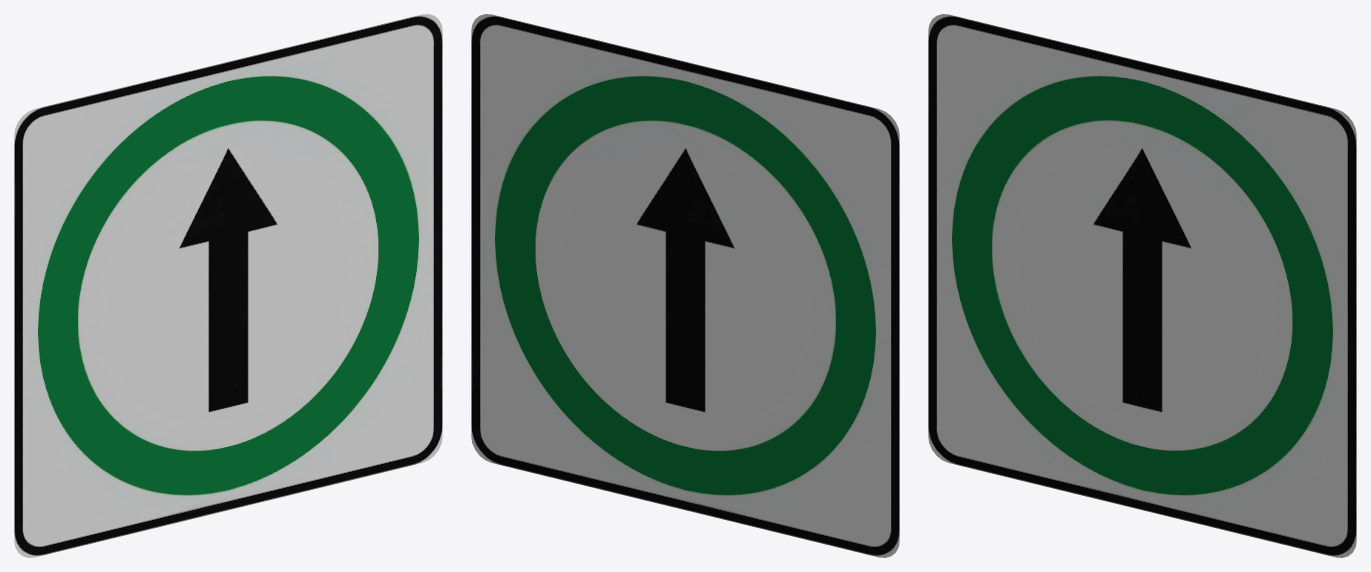
The model's file is verde_up.gltf.
3 renders of one model, left to right at view 1: azimuth 30°, elevation 25°; view 2: azimuth 150°, elevation 25°; view 3: azimuth 330°, elevation 25°, orthographic.
Parts seen in each view (by area): view 1: verde_up; view 2: verde_up; view 3: verde_up.
Part boxes in pixels (x1,y1,x2,y2): verde_up: (14, 14, 442, 557); verde_up: (471, 14, 899, 557); verde_up: (928, 14, 1356, 557).
Bounding box in the file's own units: 1.51 × 1.51 × 3.36e-16.
Materials: 1 (1 with a texture image).
